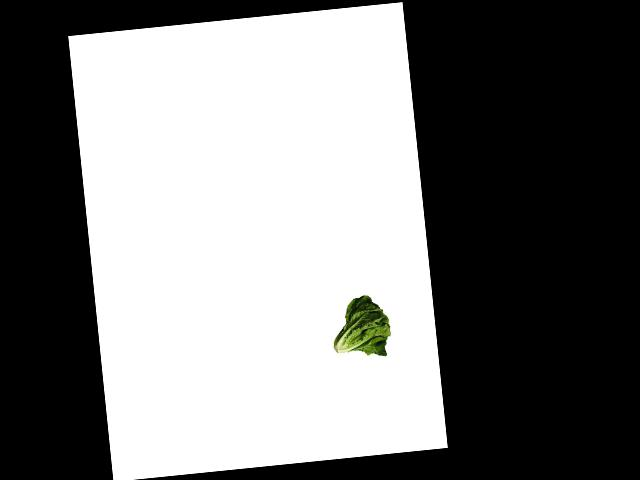lettuce: (325, 292, 395, 362)
